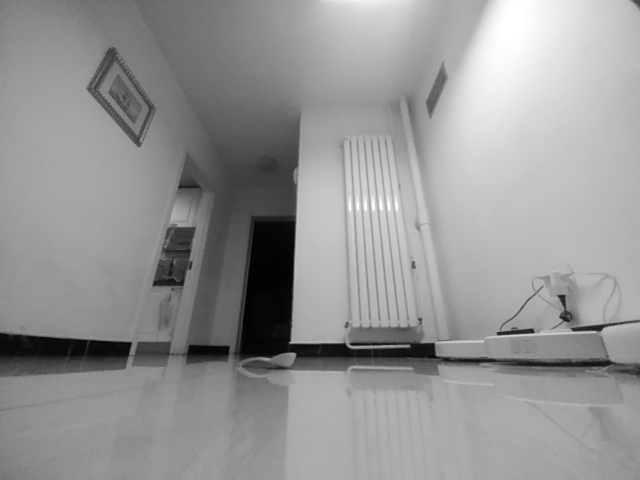others: (238, 346, 298, 370)
